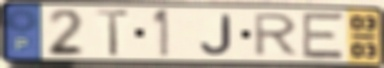1: (151, 8, 172, 60)
2: (44, 8, 87, 58)
E: (300, 11, 347, 61)
J: (199, 13, 235, 57)
R: (251, 12, 301, 58)
T: (93, 8, 132, 58)
